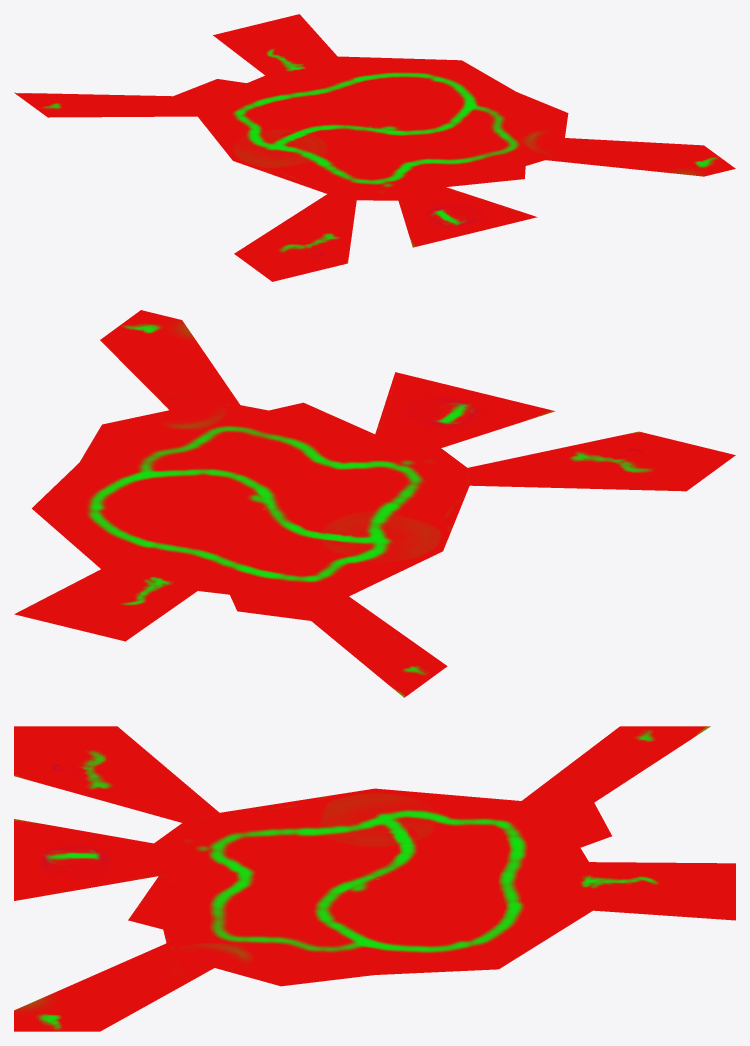
The model's file is fengxiangshangu_dixing.fbx.
3 views of the same model, one above another, from view 1: azimuth 30°, elevation 25°; view 2: azimuth 150°, elevation 25°; view 3: azimuth 270°, elevation 25° (orthographic). The views are drawn at different scales.
Visible parts, largest first — view 1: fengxiangshangu_dixing; view 2: fengxiangshangu_dixing; view 3: fengxiangshangu_dixing.
Boxes of the visible parts, x1=… form: fengxiangshangu_dixing: x1=14, y1=14, x2=735, y2=281; fengxiangshangu_dixing: x1=14, y1=310, x2=735, y2=697; fengxiangshangu_dixing: x1=14, y1=726, x2=735, y2=1031.
Size of the model in its own units: 400 by 6.99e-05 by 400.
